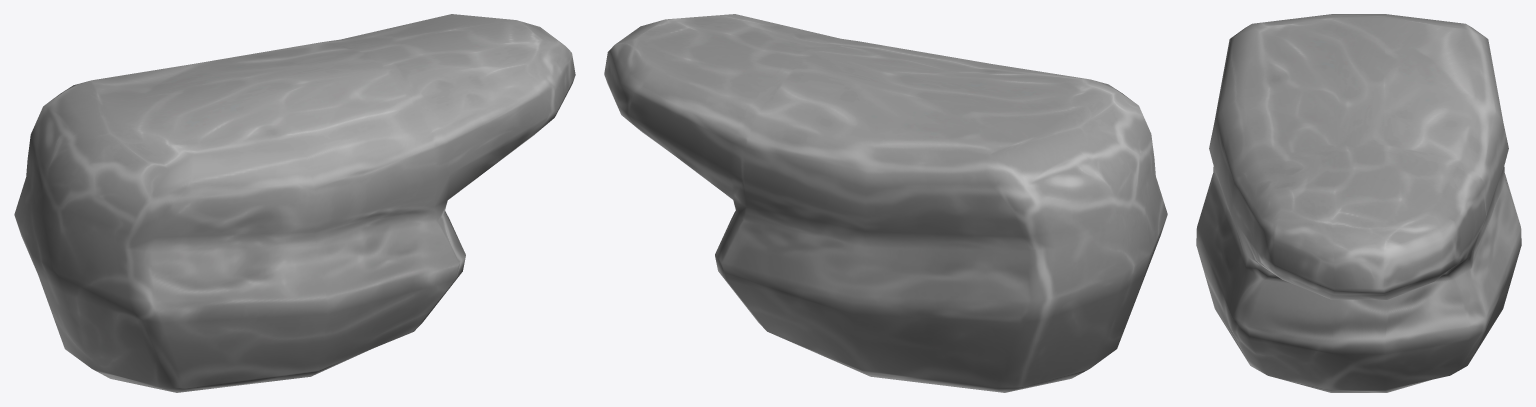
Rendered from roca10.fbx.
3 renders of one model, left to right at view 1: azimuth 30°, elevation 25°; view 2: azimuth 150°, elevation 25°; view 3: azimuth 270°, elevation 25°, orthographic.
Parts seen in each view (by area): view 1: roca10; view 2: roca10; view 3: roca10.
Boxes of the visible parts, left/top/right/bottom form: roca10: left=14, top=14, right=575, bottom=392; roca10: left=604, top=14, right=1167, bottom=392; roca10: left=1196, top=14, right=1521, bottom=392.
Size of the model in its own units: 21.25 by 10.08 by 11.44.
